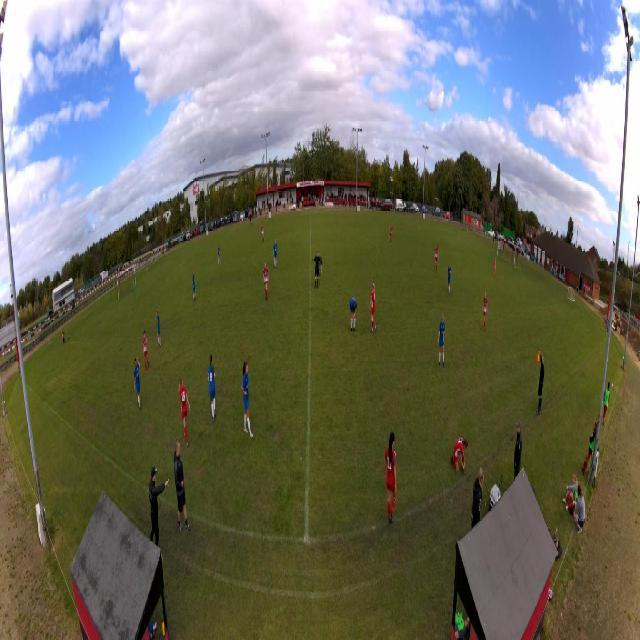player: (384, 431, 397, 526), (241, 359, 254, 440), (178, 376, 191, 448), (451, 435, 469, 477), (207, 353, 217, 425), (133, 355, 142, 412), (368, 282, 377, 334), (437, 311, 445, 369), (312, 249, 323, 291), (142, 328, 151, 374), (349, 296, 358, 334), (261, 261, 269, 302), (482, 291, 488, 333), (156, 309, 162, 351), (433, 243, 439, 274), (192, 269, 197, 303), (273, 239, 278, 269), (447, 261, 451, 296), (389, 223, 393, 247), (217, 244, 221, 266), (261, 223, 265, 244), (494, 255, 497, 277), (132, 277, 135, 298)
